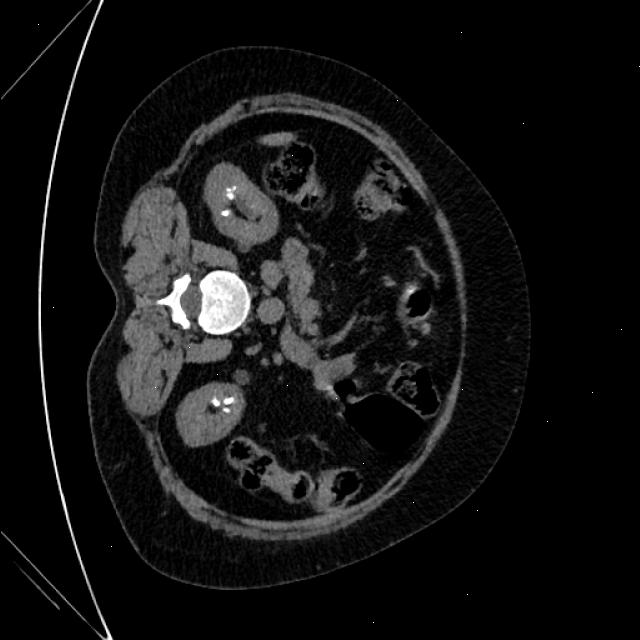kidneystone: (225, 185, 234, 198), (212, 396, 219, 408), (221, 209, 230, 216), (223, 398, 232, 405), (223, 408, 229, 411)
